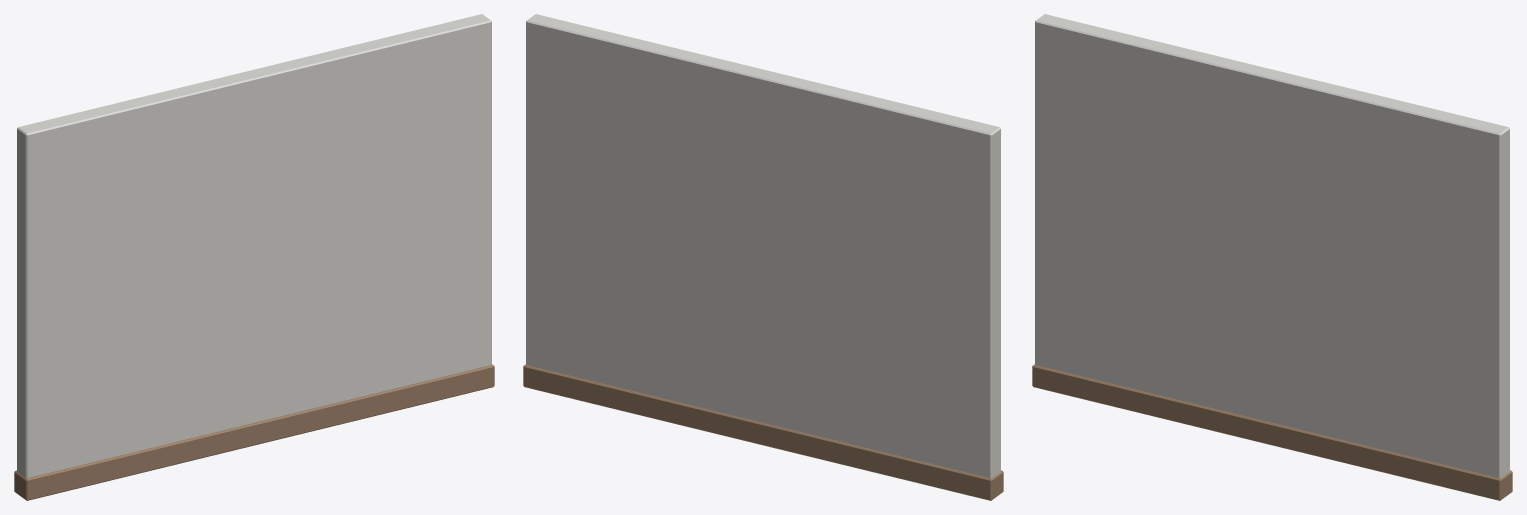
The model's file is SM_Wall_Interior_Solid.fbx.
The picture shows the model from 3 angles, left to right: view 1: azimuth 30°, elevation 25°; view 2: azimuth 150°, elevation 25°; view 3: azimuth 330°, elevation 25°; orthographic projection.
Visible parts, largest first — view 1: Wall_Interior_Solid; view 2: Wall_Interior_Solid; view 3: Wall_Interior_Solid.
Boxes of the visible parts, <box> form: Wall_Interior_Solid: <box>14,14,494,500</box>; Wall_Interior_Solid: <box>523,14,1003,500</box>; Wall_Interior_Solid: <box>1032,14,1512,500</box>.
Bounding box in the file's own units: 402 × 300 × 19.
